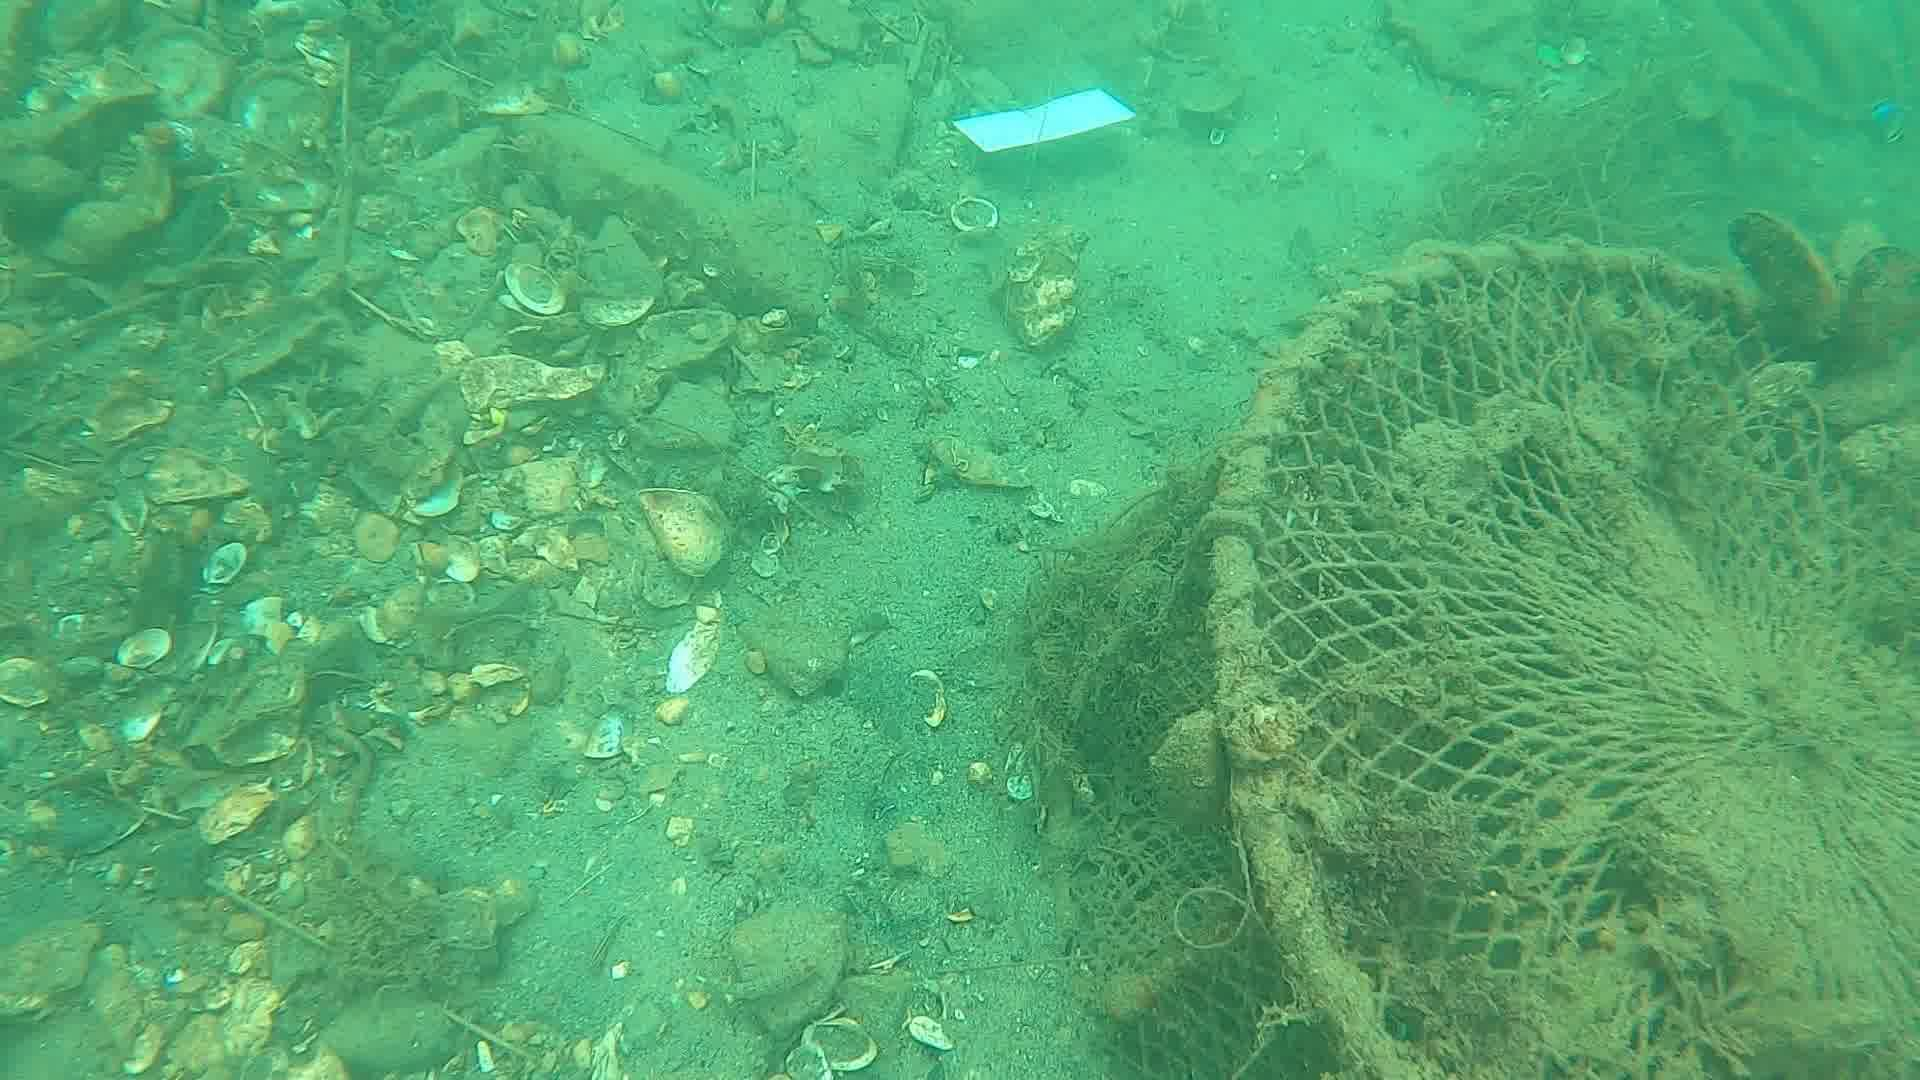circular fish trap: (1087, 239, 1920, 1080)
